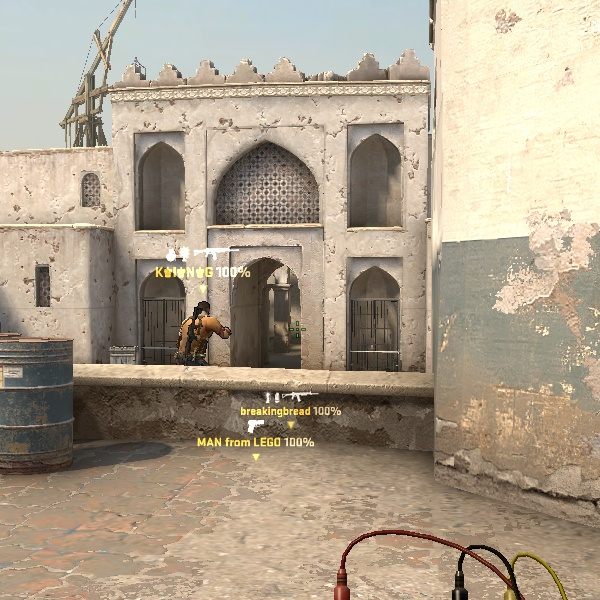t_body: (172, 300, 231, 365)
t_head: (197, 301, 210, 317)
